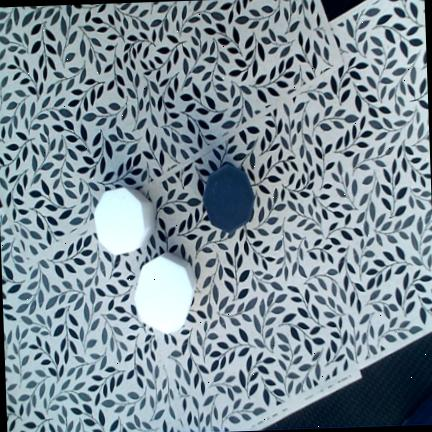Prisma_hexagonal: (134, 251, 197, 334), (94, 188, 156, 255), (203, 163, 255, 233)
